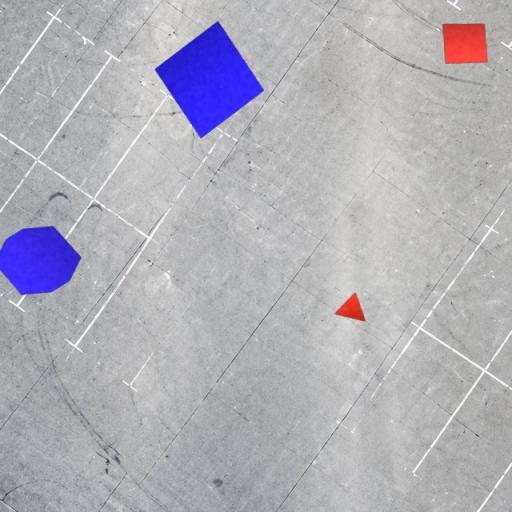BLUE_SQUARE: (154, 20, 264, 138)
RED_SQUARE: (442, 23, 488, 64)
